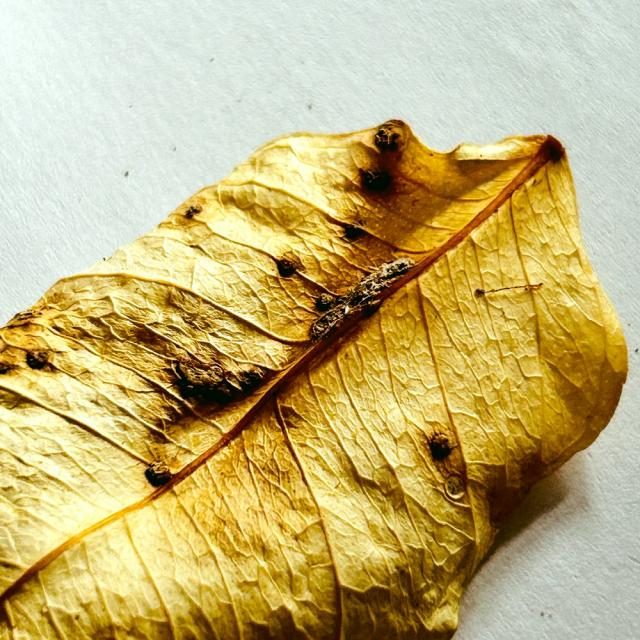DryLeaf_Lemon: (0, 120, 627, 639)
